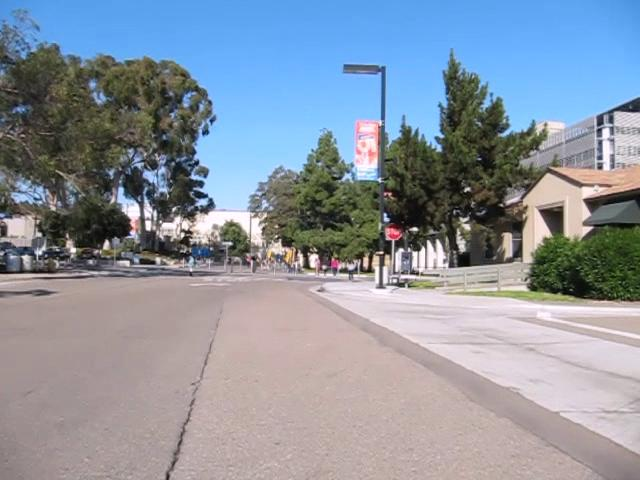stop: (385, 221, 404, 240)
